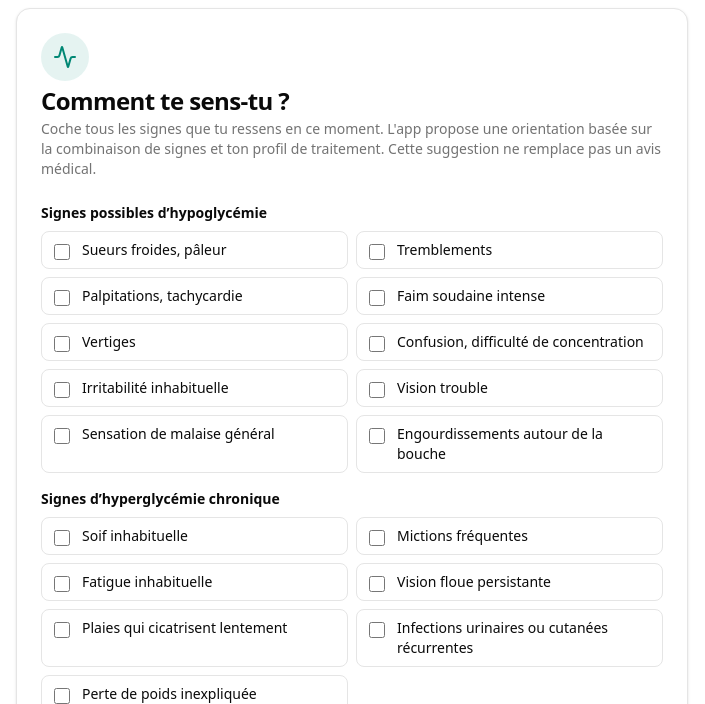
it: <SymptomsNewPage /> › downgrades the same hypo combo to level1 for a low-risk profile
Click the checkbox labelled "Sueurs froides, pâleur": (62, 252) x1=54 y1=244 x2=70 y2=260
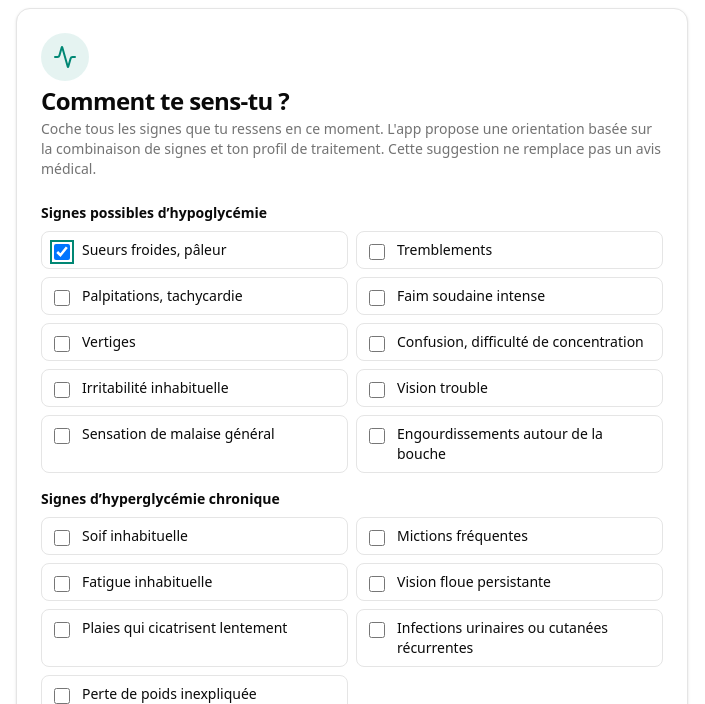
Click the checkbox labelled "Tremblements": (377, 252) x1=369 y1=244 x2=385 y2=260
(page scrolled)
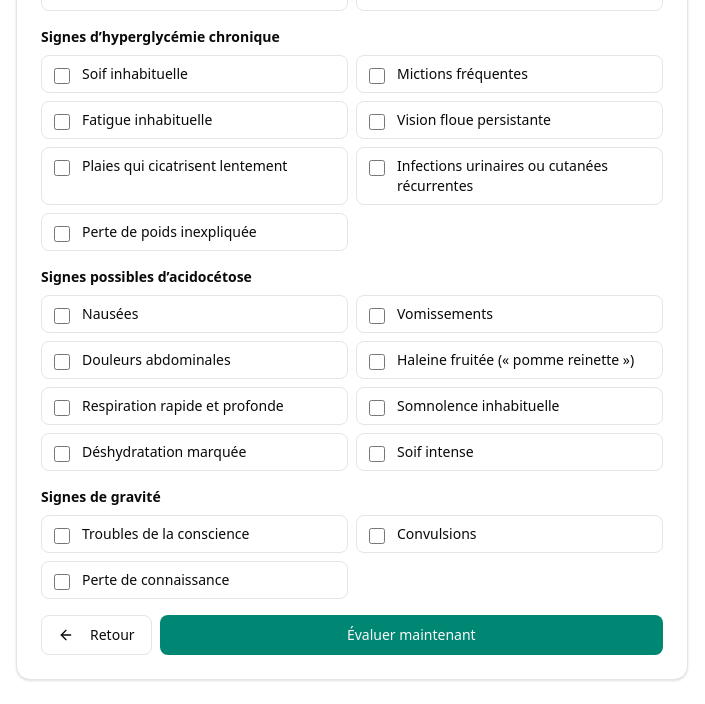
Click the button with test id "triage-evaluate": (411, 635) x1=160 y1=615 x2=663 y2=655
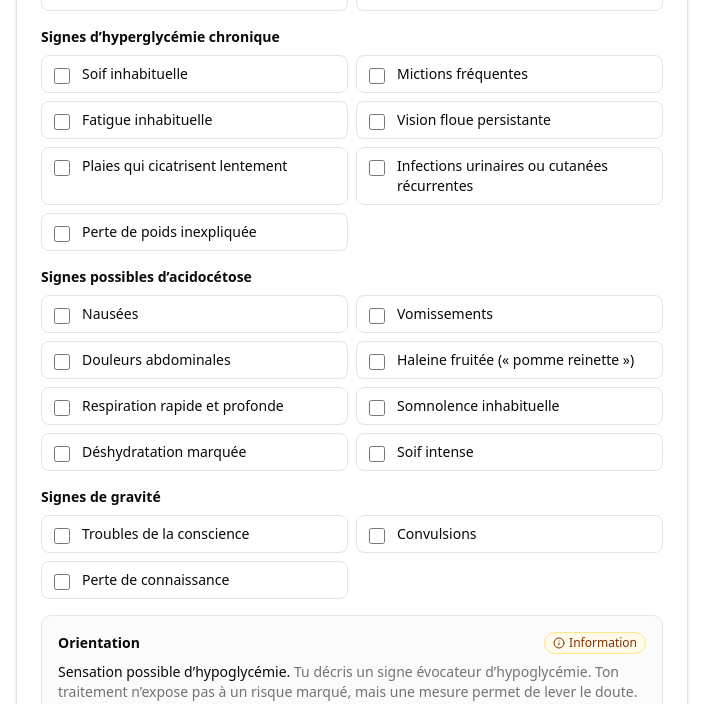
expect the element with test id "alert-badge-level1" is shown: met, box x1=544 y1=632 x2=646 y2=654
